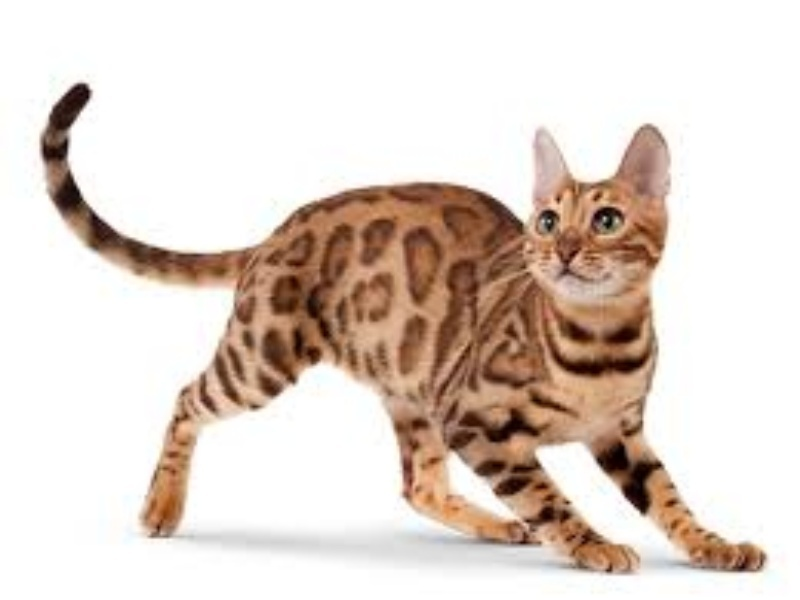cat: (31, 77, 771, 578)
